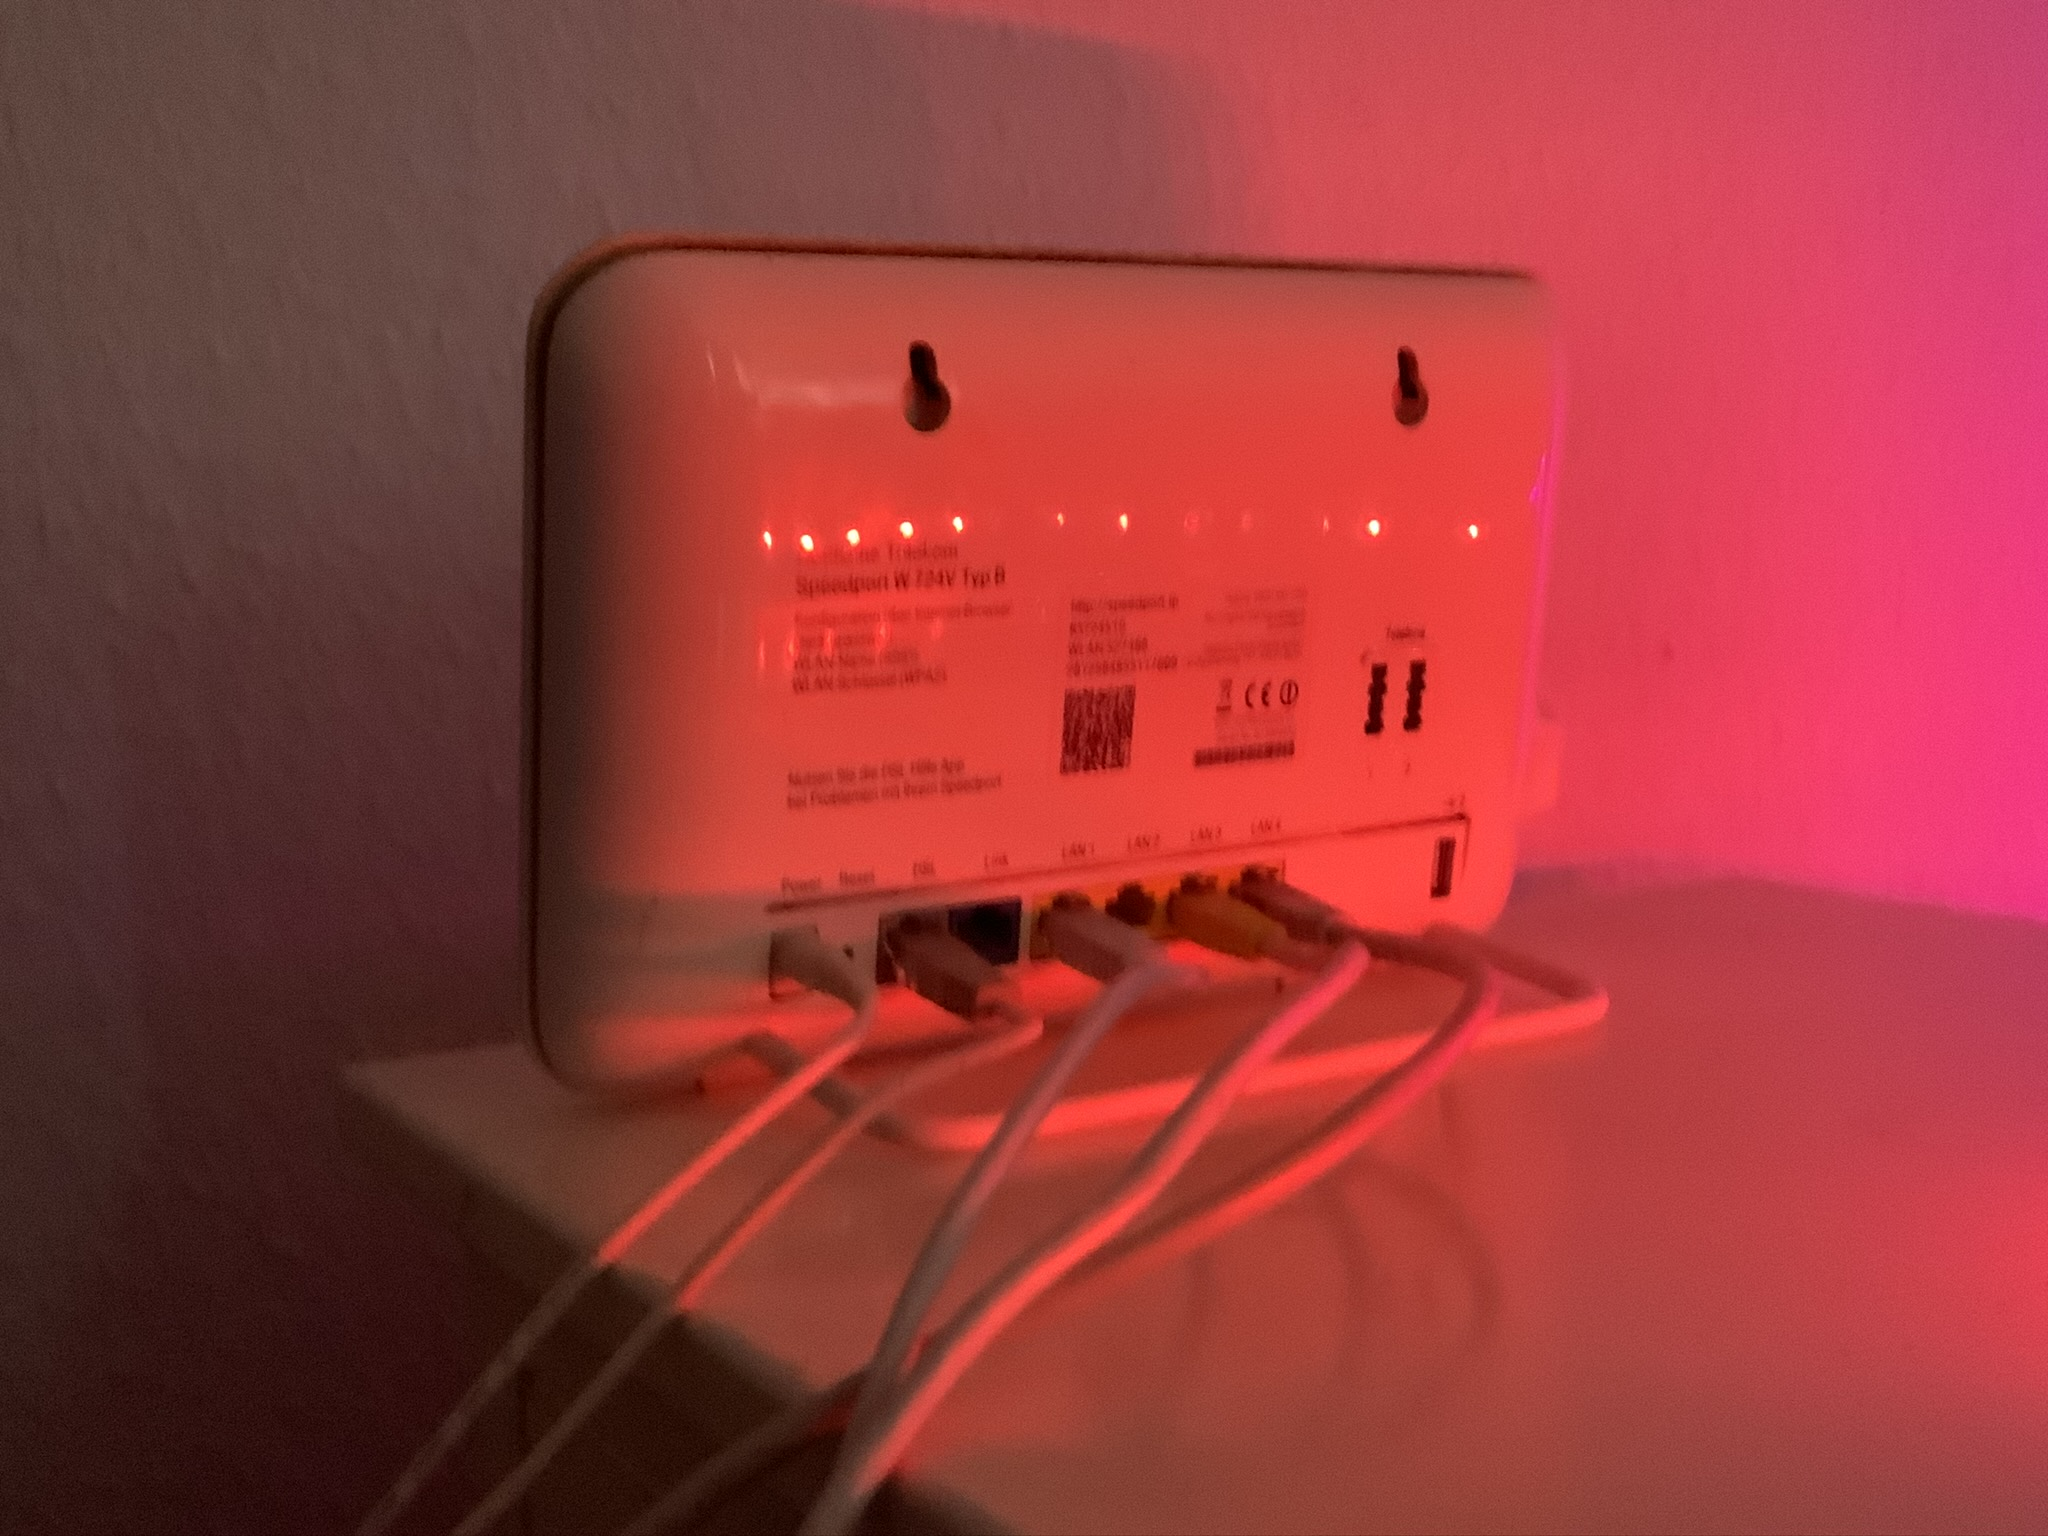router: (506, 219, 1579, 1110)
